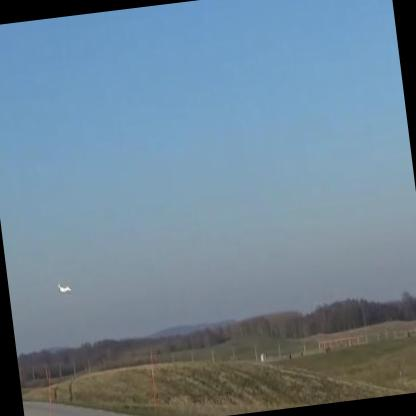plane: (56, 278, 72, 296)
